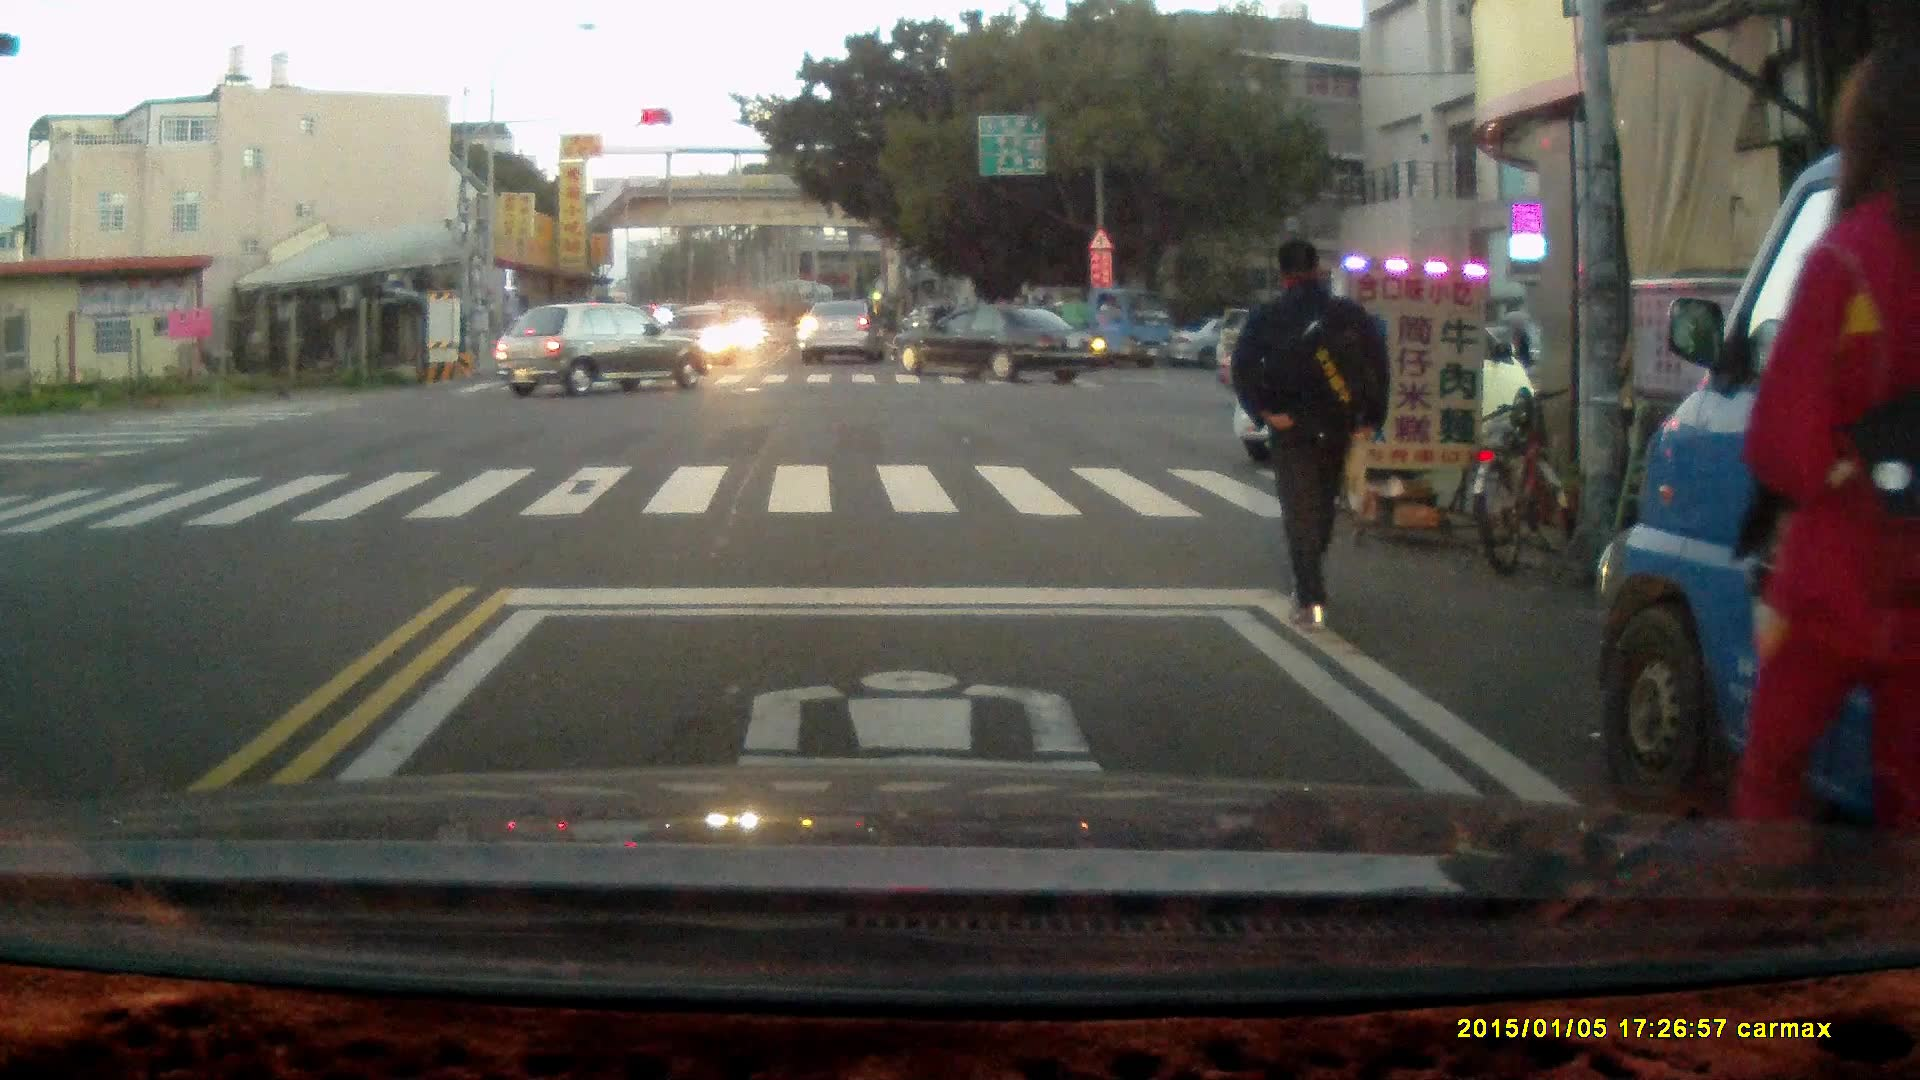pedestrian: (1725, 62, 1920, 864), (1226, 235, 1389, 636), (934, 293, 955, 355)
vehicle: (1598, 132, 1920, 853), (1233, 296, 1533, 459), (490, 305, 714, 400), (887, 303, 1110, 381), (1002, 284, 1175, 367), (802, 301, 886, 370)
